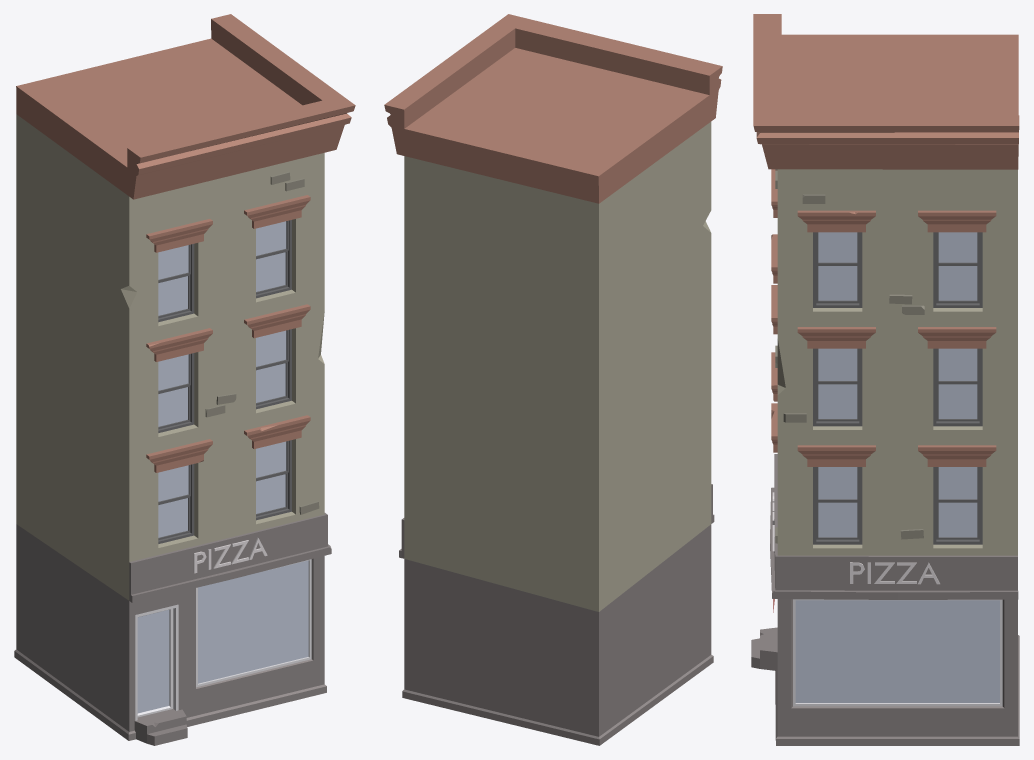
The model's file is pizza-corner.glb.
3 views of the same model, side by side, from view 1: azimuth 30°, elevation 25°; view 2: azimuth 150°, elevation 25°; view 3: azimuth 270°, elevation 25° (orthographic). The views are drawn at different scales.
Parts seen in each view (by area): view 1: PizzaCorner; view 2: PizzaCorner; view 3: PizzaCorner.
Part boxes in pixels (box(x1,y1,x2,y2)): PizzaCorner: box(14, 14, 355, 745); PizzaCorner: box(384, 14, 722, 745); PizzaCorner: box(751, 14, 1019, 745).
Bounding box in the file's own units: 1.33 × 3.47 × 1.34.
1 material, 1 textured.
